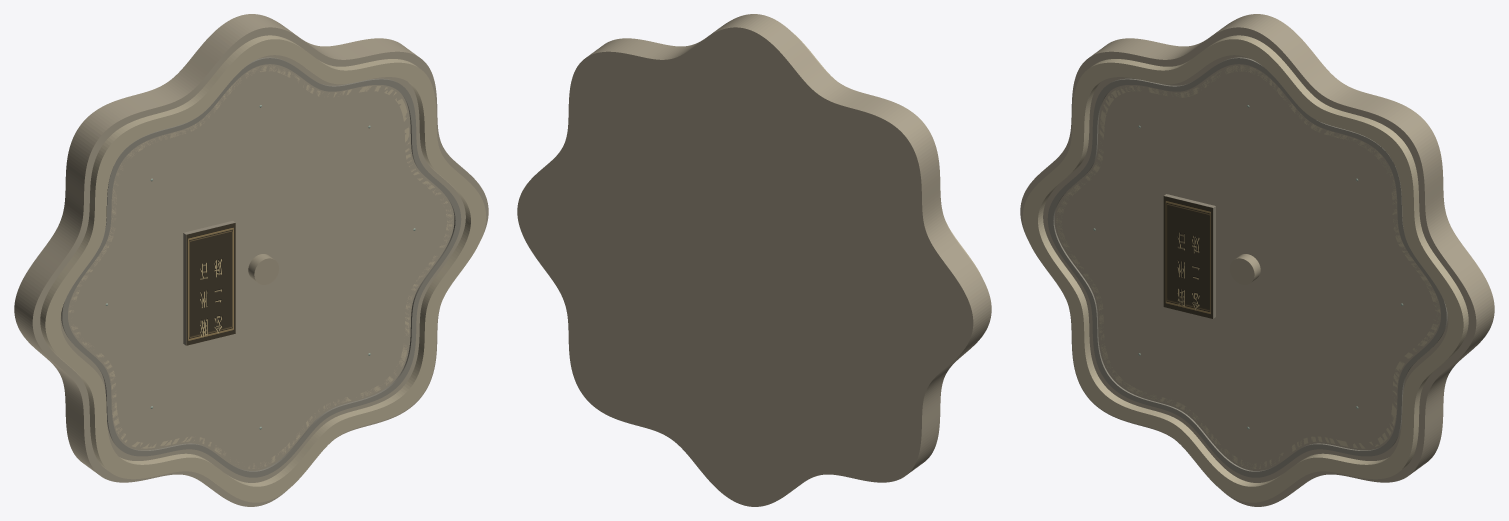
File: song_dynasty_eight_lobed_mirror.glb
The picture shows the model from 3 angles, left to right: view 1: azimuth 30°, elevation 25°; view 2: azimuth 150°, elevation 25°; view 3: azimuth 330°, elevation 25°; orthographic projection.
Parts seen in each view (by area): view 1: Mirror_part_00, Mirror_part_01, Mirror_part_02, Mirror_part_06, Mirror_part_03, Mirror_part_04, Mirror_part_05; view 2: Mirror_part_00; view 3: Mirror_part_00, Mirror_part_01, Mirror_part_02, Mirror_part_06, Mirror_part_03, Mirror_part_04.
Part boxes in pixels (x1=…): Mirror_part_00: x1=14, y1=14, x2=488, y2=506; Mirror_part_01: x1=40, y1=35, x2=486, y2=502; Mirror_part_02: x1=61, y1=57, x2=461, y2=477; Mirror_part_06: x1=186, y1=223, x2=235, y2=345; Mirror_part_03: x1=69, y1=65, x2=452, y2=468; Mirror_part_04: x1=248, y1=254, x2=279, y2=284; Mirror_part_05: x1=183, y1=221, x2=235, y2=345; Mirror_part_00: x1=517, y1=14, x2=991, y2=506; Mirror_part_00: x1=1020, y1=14, x2=1494, y2=506; Mirror_part_01: x1=1022, y1=35, x2=1468, y2=502; Mirror_part_02: x1=1047, y1=57, x2=1447, y2=477; Mirror_part_06: x1=1163, y1=196, x2=1212, y2=318; Mirror_part_03: x1=1056, y1=65, x2=1440, y2=468; Mirror_part_04: x1=1229, y1=254, x2=1260, y2=284.
Bounding box in the file's own units: 0.258 × 0.258 × 0.024.
Materials: 8 (1 with a texture image).
